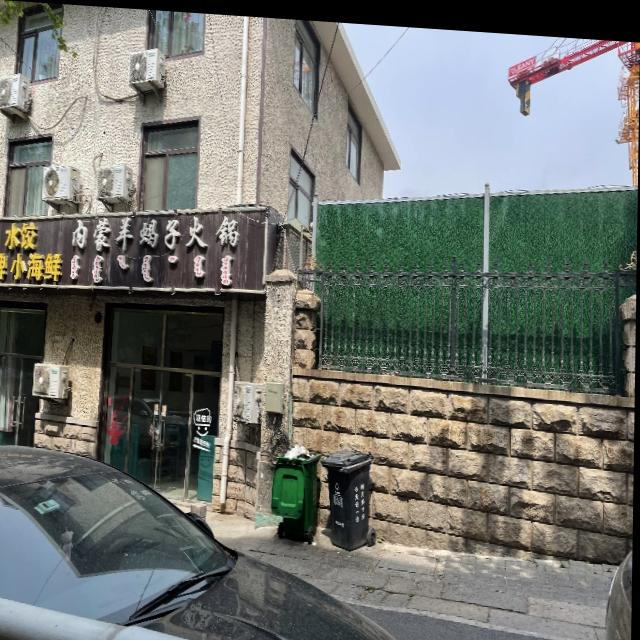garbage_bin: (321, 442, 374, 547)
overflow: (272, 437, 322, 536)
